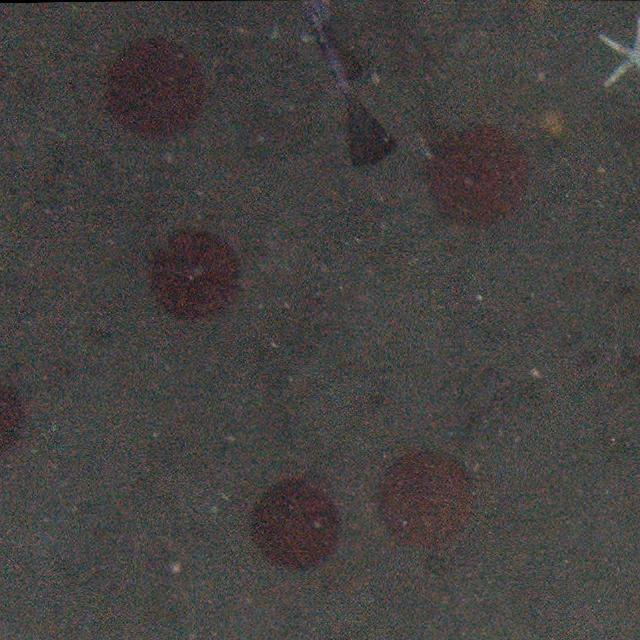roundfish: (298, 0, 403, 171)
